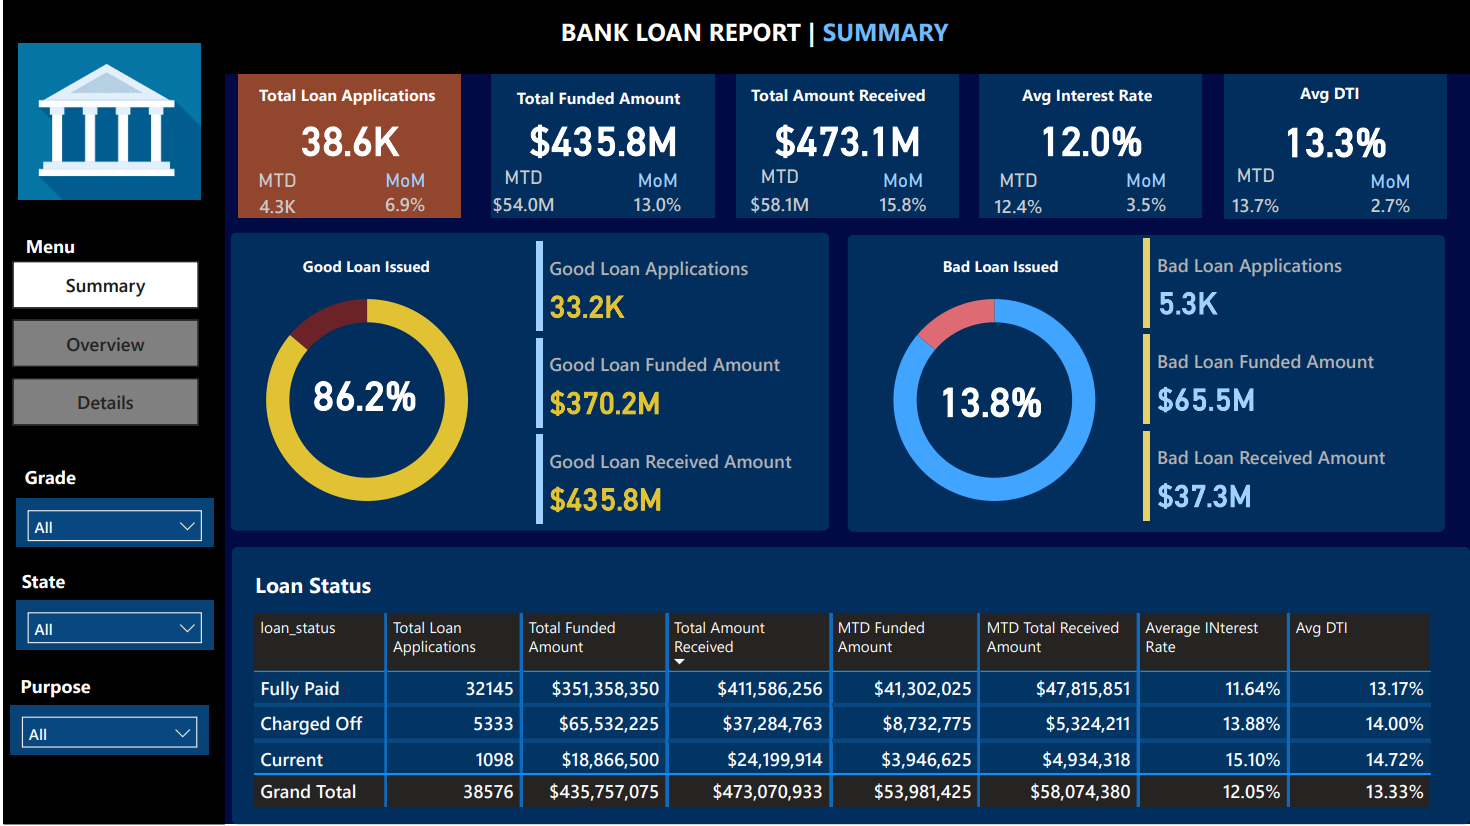

This screenshot's page, from the dashboard's own definition file:
{"tool":"powerbi","page":{"name":"Summary","canvas":[1280,720],"ordinal":0},"visuals":[{"type":"shape","box":[205.3,63.2,194.2,127.9],"z":0,"group":"g2"},{"type":"shape","box":[425.3,63.2,194.2,127.9],"z":0,"group":"g3"},{"type":"shape","box":[638.7,63.2,194.2,127.9],"z":0,"group":"g4"},{"type":"shape","box":[851.5,63.2,194.2,127.9],"z":0,"group":"g5"},{"type":"shape","box":[1064.5,63.6,194.2,127.9],"z":0,"group":"g6"},{"type":"shape","box":[198.4,204.4,522,260],"z":0},{"type":"shape","box":[0,0,1279.5,55],"z":1000},{"type":"card","fields":{"Values":["bank_loan_data.Total Loan Applications"]},"box":[218.6,85.2,168.1,72.7],"z":1000,"group":"g2"},{"type":"card","fields":{"Values":["bank_loan_data.Total Funded Amount"]},"box":[438.6,85.2,168.1,72.7],"z":1000,"group":"g3"},{"type":"card","fields":{"Values":["bank_loan_data.Total Amount Received"]},"box":[652,85.2,168.1,72.7],"z":1000,"group":"g4"},{"type":"card","fields":{"Values":["bank_loan_data.Average INterest Rate"]},"box":[864.8,85.2,168.1,72.7],"z":1000,"group":"g5"},{"type":"card","fields":{"Values":["bank_loan_data.Avg DTI"]},"box":[1077.8,85.6,168.1,72.7],"z":1000,"group":"g6"},{"type":"textbox","box":[1074.4,67.2,169.6,30.3],"z":2000,"group":"g6"},{"type":"textbox","box":[218.5,69,172.6,30.3],"z":2000,"group":"g2"},{"type":"textbox","box":[646.6,69.5,172.1,31.6],"z":2000,"group":"g4"},{"type":"textbox","box":[859.4,69.5,172.1,31.6],"z":2000,"group":"g5"},{"type":"textbox","box":[431.6,72,174.1,28.8],"z":2000,"group":"g3"},{"type":"donutChart","fields":{"Category":["bank_loan_data.Good v Bad Loan"],"Y":["bank_loan_data.Total Loan Applications"]},"box":[192.3,234.7,249.8,230.2],"z":2000},{"type":"shape","box":[0,55.3,192.6,664.7],"z":3000},{"type":"card","title":"MTD","fields":{"Values":["bank_loan_data.MTD DTI"]},"box":[1066.6,143.4,52.1,56.8],"z":3000,"group":"g6"},{"type":"card","title":"MTD","fields":{"Values":["bank_loan_data.MTD Total Received Amount"]},"box":[639.1,145.1,75.8,53.7],"z":3000,"group":"g4"},{"type":"card","title":"MTD","fields":{"Values":["bank_loan_data.MTD Funded Amount"]},"box":[418,146.6,71.1,42.6],"z":3000,"group":"g3"},{"type":"card","title":"MTD","fields":{"Values":["bank_loan_data.MTD Loan Applications"]},"box":[213.2,148.5,52.1,42.6],"z":3000,"group":"g2"},{"type":"card","title":"MTD","fields":{"Values":["bank_loan_data.MTD Interest Rate"]},"box":[859.4,148.5,52.1,42.6],"z":3000,"group":"g5"},{"type":"card","title":"MoM","fields":{"Values":["bank_loan_data.MoM Loan Application"]},"box":[315.8,148.5,69.5,47.4],"z":4000,"group":"g2"},{"type":"card","title":"MoM","fields":{"Values":["bank_loan_data.MoM Funded Amount"]},"box":[535.8,148.5,69.5,47.4],"z":4000,"group":"g3"},{"type":"card","title":"MoM","fields":{"Values":["bank_loan_data.MoM Ttotal Amount Received"]},"box":[749.2,148.5,69.5,47.4],"z":4000,"group":"g4"},{"type":"card","title":"MoM","fields":{"Values":["bank_loan_data.MoM Interest Rate"]},"box":[962,148.5,69.5,47.4],"z":4000,"group":"g5"},{"type":"card","title":"MoM","fields":{"Values":["bank_loan_data.MoM DTI"]},"box":[1175,148.9,69.5,47.4],"z":4000,"group":"g6"},{"type":"card","fields":{"Values":["bank_loan_data.Good Loan %"]},"box":[243.8,313.4,142.3,60.6],"z":4000},{"type":"textbox","box":[501.2,6.1,396.7,48.5],"z":5000},{"type":"group","id":"g1","title":"Group 1","box":[205.3,63.2,194.2,132.6],"z":6000},{"type":"group","id":"g2","title":"Group 2","box":[205.3,63.2,194.2,132.6],"z":6003,"group":"g1"},{"type":"group","id":"g3","title":"Group 1","box":[418,63.2,201.5,132.6],"z":7000},{"type":"group","id":"g4","title":"Group 1","box":[638.7,63.2,194.2,135.5],"z":8000},{"type":"group","id":"g5","title":"Group 1","box":[851.5,63.2,194.2,132.6],"z":9000},{"type":"group","id":"g6","title":"Group 1","box":[1064.5,63.6,194.2,136.6],"z":10000},{"type":"shape","box":[735.9,205.9,520.9,258.9],"z":11000},{"type":"cardVisual","fields":{"Data":["bank_loan_data.Good Loan Applications","bank_loan_data.Good Loan Funded Amount","bank_loan_data.Good Loan Received Amount"]},"box":[458.8,207.4,257.4,255.9],"z":12000},{"type":"donutChart","fields":{"Category":["bank_loan_data.Good v Bad Loan"],"Y":["bank_loan_data.Total Loan Applications"]},"box":[738.9,234.7,249.8,230.2],"z":13000},{"type":"card","fields":{"Values":["bank_loan_data.Bad Loan %"]},"box":[802.5,324,115.1,50],"z":14000},{"type":"cardVisual","fields":{"Data":["bank_loan_data.Bad Loan Applications","bank_loan_data.Bad Loan Funded Amount","bank_loan_data.Bad Loan Received Amount"]},"box":[988.8,204.4,257.4,255.9],"z":15000},{"type":"textbox","box":[247.9,219.5,137.4,30],"z":16000},{"type":"textbox","box":[784.7,219.5,168.9,30],"z":17000},{"type":"shape","box":[198.9,478.4,1080,241.6],"z":18000},{"type":"tableEx","fields":{"Values":["bank_loan_data.loan_status","bank_loan_data.Total Loan Applications","bank_loan_data.Total Funded Amount","bank_loan_data.Total Amount Received","bank_loan_data.MTD Funded Amount","bank_loan_data.MTD Total Received Amount","bank_loan_data.Average INterest Rate","bank_loan_data.Avg DTI"]},"box":[213.2,530.5,1039,189.5],"z":19000},{"type":"textbox","box":[205.3,492.6,129.5,37.9],"z":20000},{"type":"slicer","fields":{"Values":["bank_loan_data.purpose"]},"box":[6.1,616.3,172.6,42.4],"z":21000},{"type":"textbox","box":[23.7,617.4,104.2,7.9],"z":22000},{"type":"shape","box":[0.5,10,1279.5,55],"z":23000},{"type":"slicer","fields":{"Values":["bank_loan_data.address_state"]},"box":[10.6,525.4,172.6,42.4],"z":24000},{"type":"slicer","fields":{"Values":["bank_loan_data.grade"]},"box":[10.6,436.1,172.6,42.4],"z":25000},{"type":"textbox","box":[458.8,9.1,392.2,48.5],"z":26000},{"type":"textbox","box":[0,583,90.9,33.3],"z":27000},{"type":"textbox","box":[0,492.1,69.7,33.3],"z":28000},{"type":"textbox","box":[6.1,401.3,69.7,33.3],"z":29000},{"type":"image","box":[7.6,18.2,169.6,177.2],"z":30000},{"type":"pageNavigator","box":[7.6,228.6,162,145.4],"z":31000},{"type":"textbox","box":[6.1,199.9,69.7,33.3],"z":32000}]}

Visuals, with their boxes in screenshot pixels (x1, y1, x2, y2), scaled from the page's 1280x720 canvas onto the 1470x826 screenshot:
shape: (236, 73, 459, 219)
shape: (488, 73, 711, 219)
shape: (734, 73, 957, 219)
shape: (978, 73, 1201, 219)
shape: (1223, 73, 1446, 220)
shape: (228, 234, 827, 533)
shape: (0, 0, 1469, 63)
card - bank_loan_data.Total Loan Applications: (251, 98, 444, 181)
card - bank_loan_data.Total Funded Amount: (504, 98, 697, 181)
card - bank_loan_data.Total Amount Received: (749, 98, 942, 181)
card - bank_loan_data.Average INterest Rate: (993, 98, 1186, 181)
card - bank_loan_data.Avg DTI: (1238, 98, 1431, 182)
textbox: (1234, 77, 1429, 112)
textbox: (251, 79, 449, 114)
textbox: (743, 80, 940, 116)
textbox: (987, 80, 1185, 116)
textbox: (496, 83, 696, 116)
donutChart - bank_loan_data.Good v Bad Loan x bank_loan_data.Total Loan Applications: (221, 269, 508, 533)
shape: (0, 63, 221, 825)
"MTD" card: (1225, 165, 1285, 230)
"MTD" card: (734, 166, 821, 228)
"MTD" card: (480, 168, 562, 217)
"MTD" card: (245, 170, 305, 219)
"MTD" card: (987, 170, 1047, 219)
"MoM" card: (363, 170, 442, 225)
"MoM" card: (615, 170, 695, 225)
"MoM" card: (860, 170, 940, 225)
"MoM" card: (1105, 170, 1185, 225)
"MoM" card: (1349, 171, 1429, 225)
card - bank_loan_data.Good Loan %: (280, 360, 443, 429)
textbox: (576, 7, 1031, 63)
"Group 1" group: (236, 73, 459, 225)
"Group 2" group: (236, 73, 459, 225)
"Group 1" group: (480, 73, 711, 225)
"Group 1" group: (734, 73, 957, 228)
"Group 1" group: (978, 73, 1201, 225)
"Group 1" group: (1223, 73, 1446, 230)
shape: (845, 236, 1443, 533)
cardVisual - bank_loan_data.Good Loan Applications x bank_loan_data.Good Loan Funded Amount: (527, 238, 823, 532)
donutChart - bank_loan_data.Good v Bad Loan x bank_loan_data.Total Loan Applications: (849, 269, 1135, 533)
card - bank_loan_data.Bad Loan %: (922, 372, 1054, 429)
cardVisual - bank_loan_data.Bad Loan Applications x bank_loan_data.Bad Loan Funded Amount: (1136, 234, 1431, 528)
textbox: (285, 252, 442, 286)
textbox: (901, 252, 1095, 286)
shape: (228, 549, 1469, 825)
tableEx - bank_loan_data.loan_status x bank_loan_data.Total Loan Applications: (245, 609, 1438, 825)
textbox: (236, 565, 384, 609)
slicer - bank_loan_data.purpose: (7, 707, 205, 756)
textbox: (27, 708, 147, 717)
shape: (1, 11, 1469, 75)
slicer - bank_loan_data.address_state: (12, 603, 210, 651)
slicer - bank_loan_data.grade: (12, 500, 210, 549)
textbox: (527, 10, 977, 66)
textbox: (0, 669, 104, 707)
textbox: (0, 565, 80, 603)
textbox: (7, 460, 87, 499)
image: (9, 21, 204, 224)
pageNavigator: (9, 262, 195, 429)
textbox: (7, 229, 87, 268)
